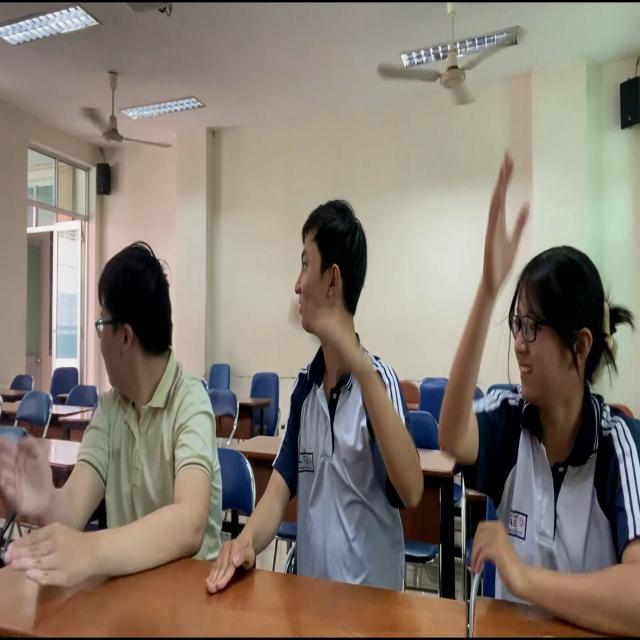raise_hand: (430, 149, 640, 640)
